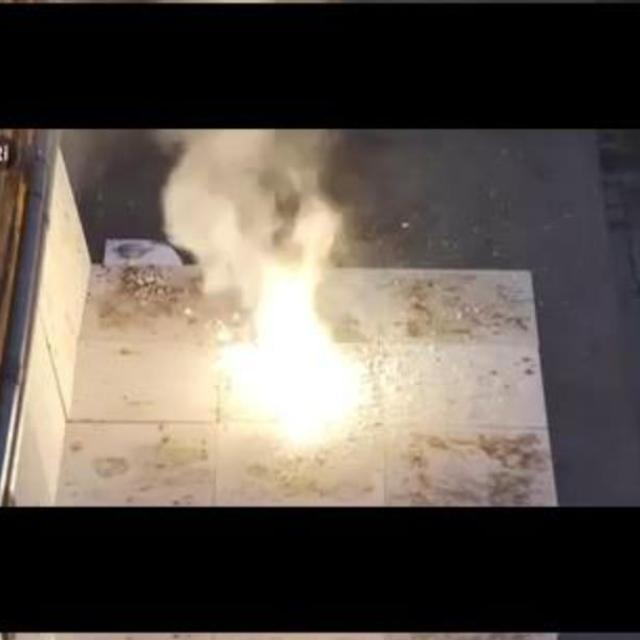fire: (156, 130, 272, 297)
smoke: (215, 268, 360, 444)
